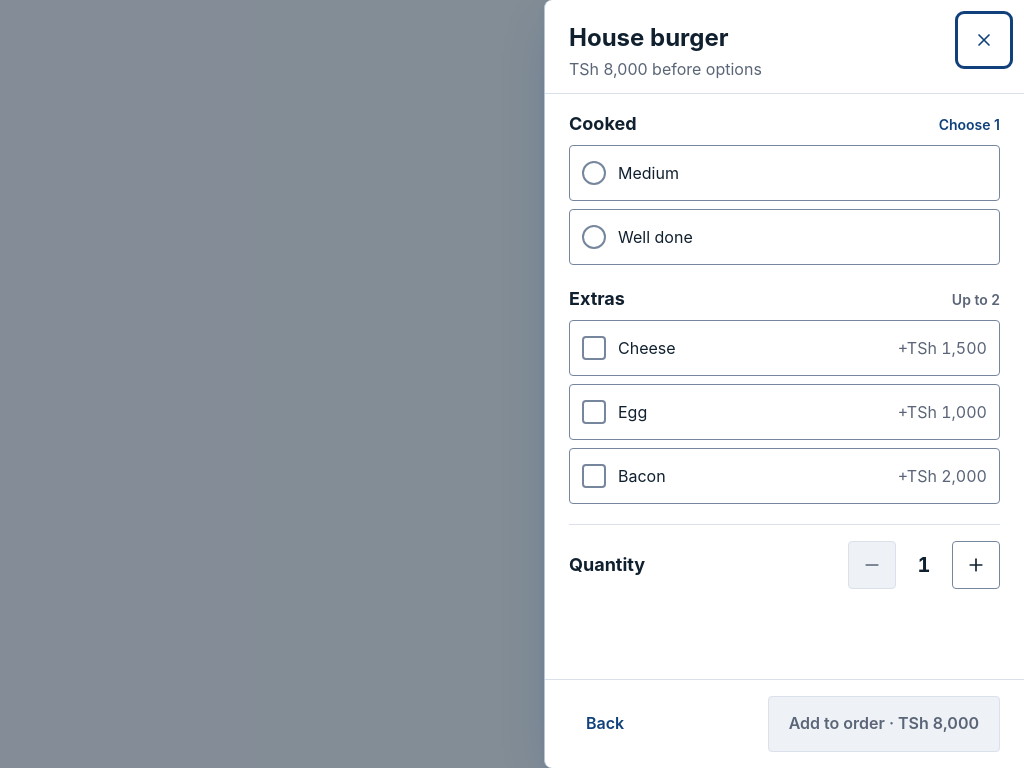
OptionsSheet › shows what is being added, priced from the catalog for the choices and quantity
The image size is (1024, 768).
Step 1. Click the radio button labelled "Medium" → [648, 173], box [569, 145, 1000, 201]
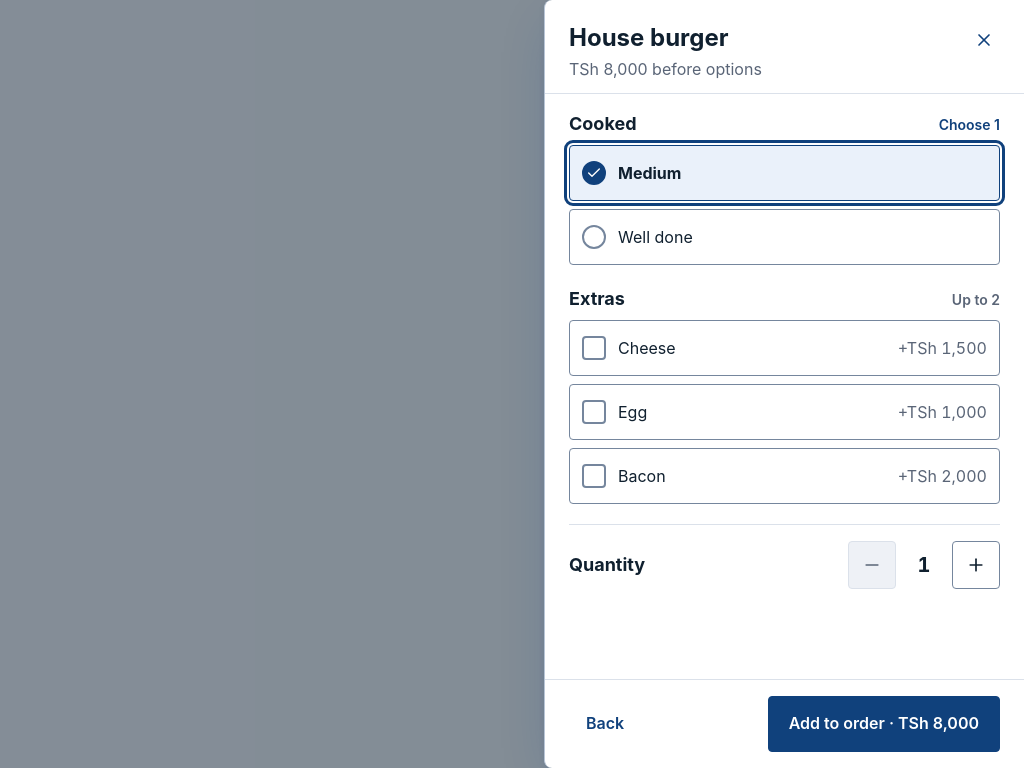
Step 2. Click the checkbox labelled "Cheese +TSh 1,500" → [647, 348], box [569, 320, 1000, 376]
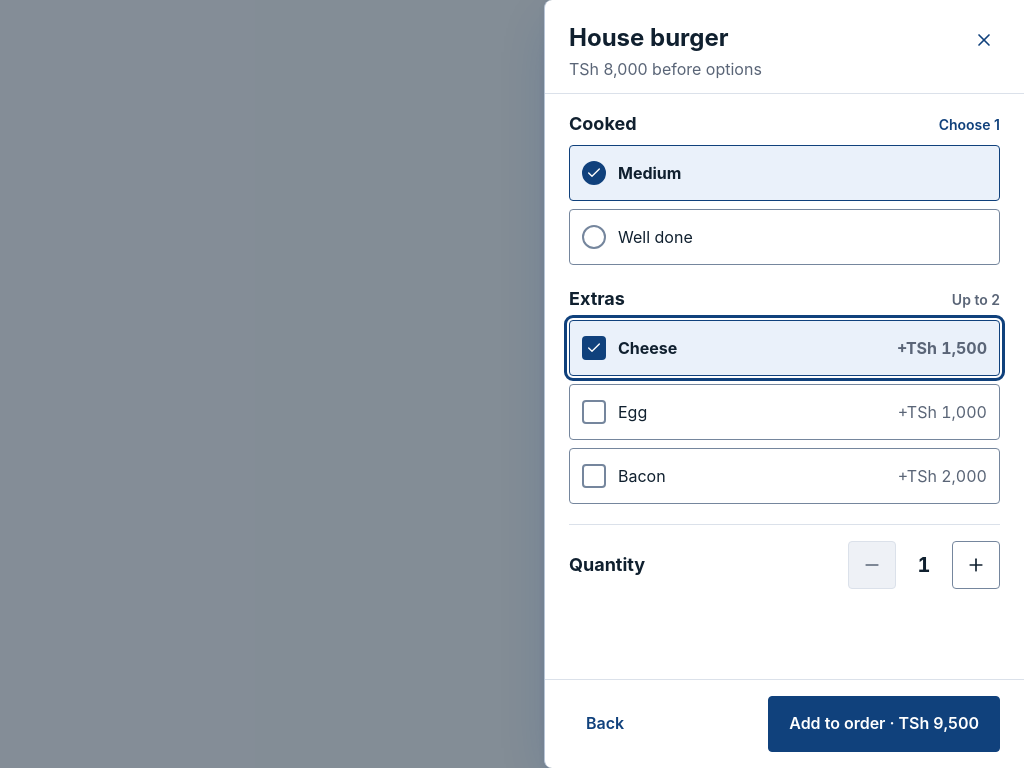
Expected: the button with test id "modifier-confirm-add" reads "Add to order · TSh 9,500", [768, 696, 1000, 752]
Step 3. Click the button named "One more House burger" → [976, 565], box [952, 541, 1000, 589]
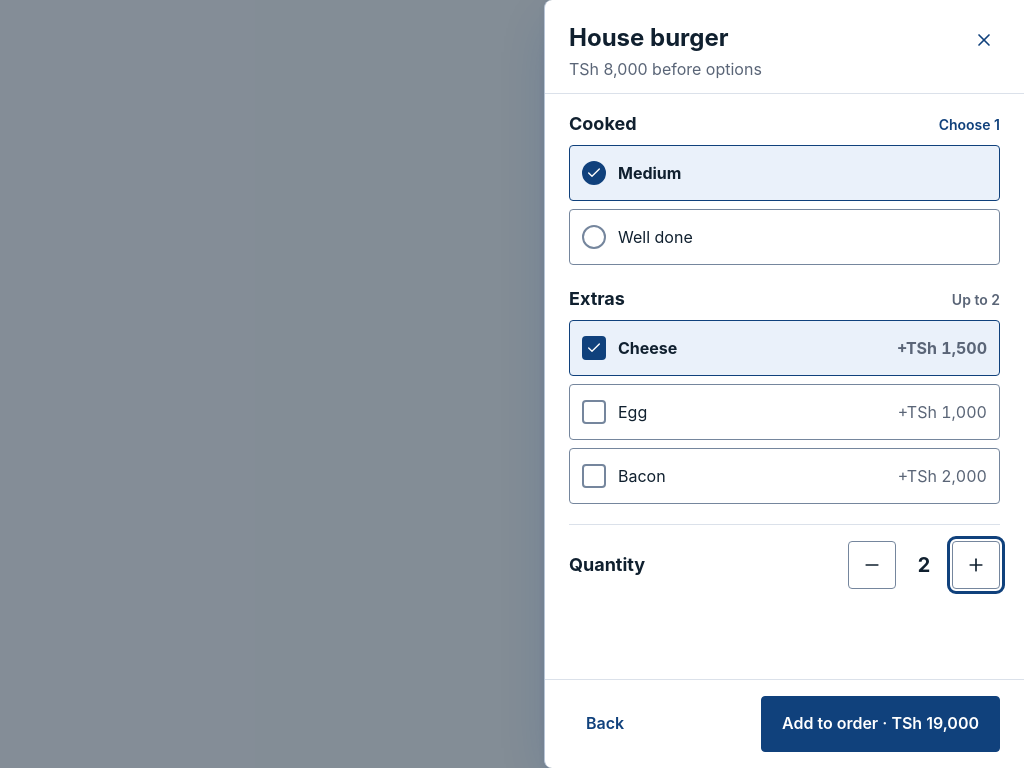
Expected: the button with test id "modifier-confirm-add" reads "Add to order · TSh 19,000", [761, 696, 1000, 752]
